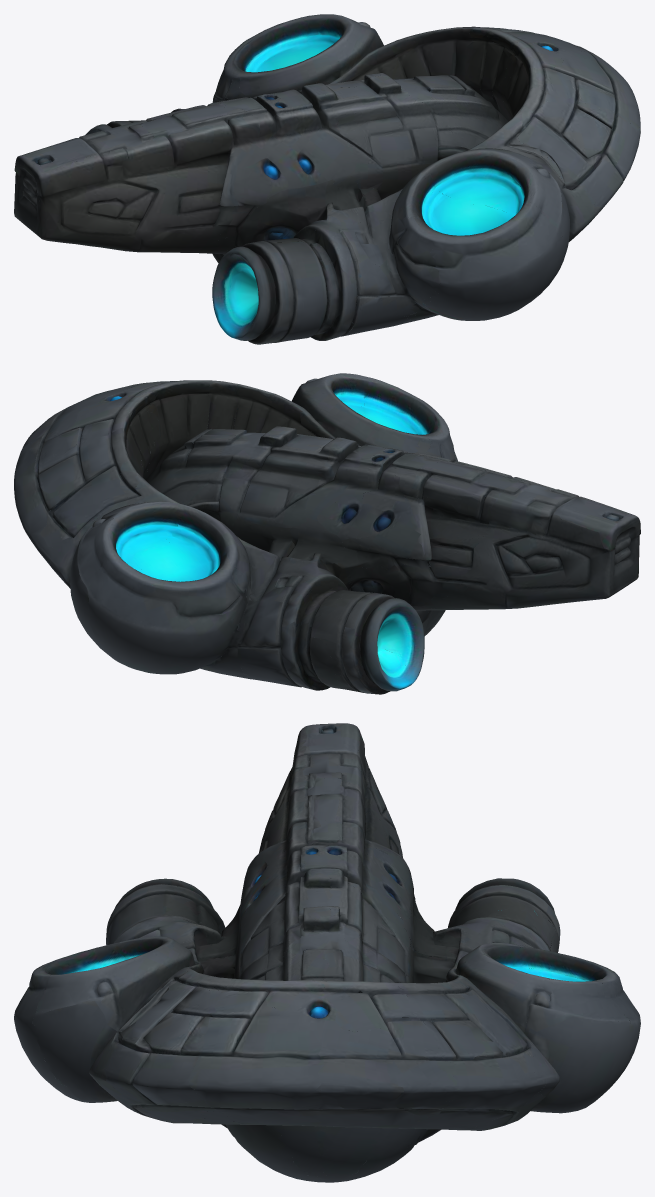
File: fortress_omega.glb
3 renders of one model, top to bottom at view 1: azimuth 30°, elevation 25°; view 2: azimuth 150°, elevation 25°; view 3: azimuth 270°, elevation 25°, orthographic. The views are drawn at different scales.
Parts seen in each view (by area): view 1: tripo_node_8f1a4427-a855-4c3d-8ee3-7a252a0d48cd; view 2: tripo_node_8f1a4427-a855-4c3d-8ee3-7a252a0d48cd; view 3: tripo_node_8f1a4427-a855-4c3d-8ee3-7a252a0d48cd.
Part boxes in pixels (box(x1,y1,x2,y2)): tripo_node_8f1a4427-a855-4c3d-8ee3-7a252a0d48cd: box(14, 14, 640, 344); tripo_node_8f1a4427-a855-4c3d-8ee3-7a252a0d48cd: box(14, 373, 640, 694); tripo_node_8f1a4427-a855-4c3d-8ee3-7a252a0d48cd: box(14, 723, 640, 1182).
Bounding box in the file's own units: 2 × 0.7398 × 1.67.
Materials: 1 (1 with a texture image).
